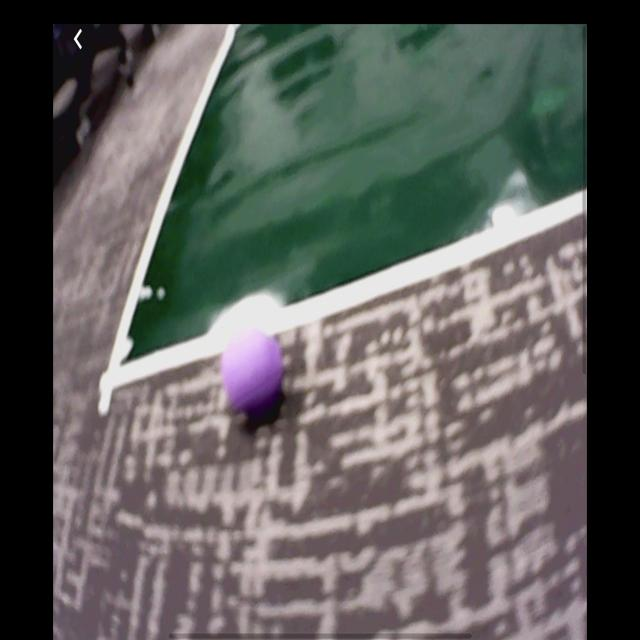ball: (221, 328, 286, 420)
